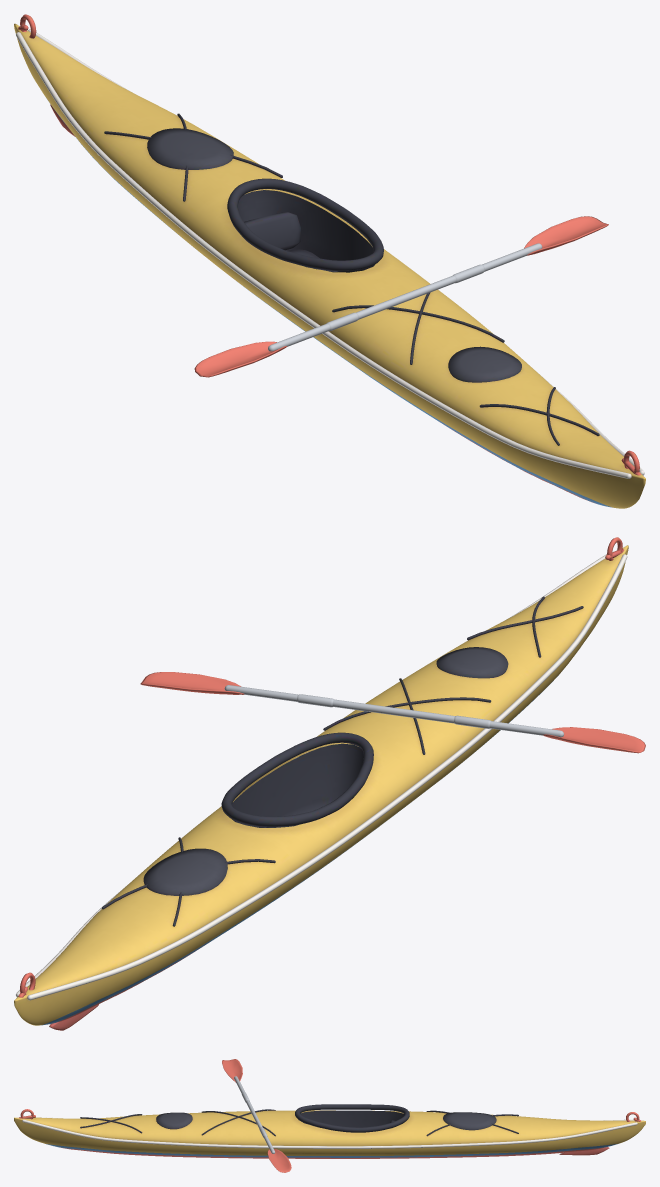
Rendered from kayak.glb.
3 renders of one model, top to bottom at view 1: azimuth 30°, elevation 25°; view 2: azimuth 150°, elevation 25°; view 3: azimuth 270°, elevation 25°, orthographic. The views are drawn at different scales.
Parts seen in each view (by area): view 1: kayak_body, kayak_paddle; view 2: kayak_body, kayak_paddle; view 3: kayak_body, kayak_paddle.
Boxes of the visible parts, <box> form: kayak_body: <box>14,14,645,508</box>; kayak_paddle: <box>194,216,608,377</box>; kayak_body: <box>14,537,628,1030</box>; kayak_paddle: <box>140,672,645,753</box>; kayak_body: <box>14,1104,645,1158</box>; kayak_paddle: <box>222,1059,291,1172</box>.
Size of the model in its own units: 2.2 by 0.4165 by 5.2.
Materials: 3 (1 with a texture image).
